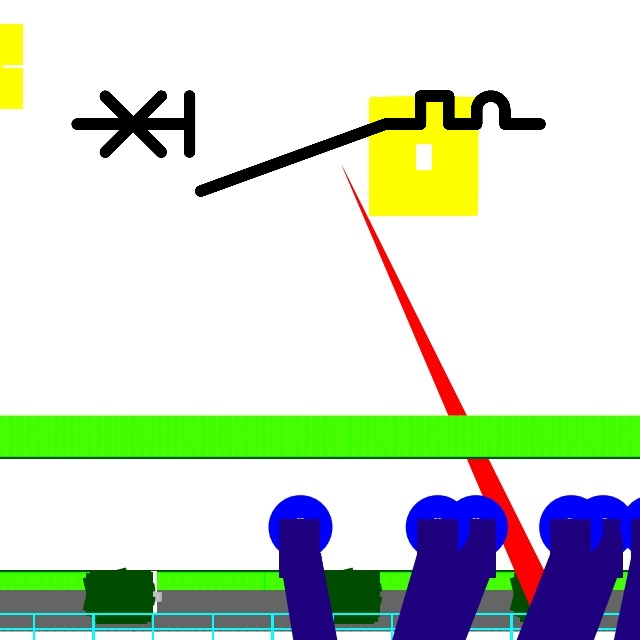interruptor_termomagnetico: (65, 84, 552, 203)
